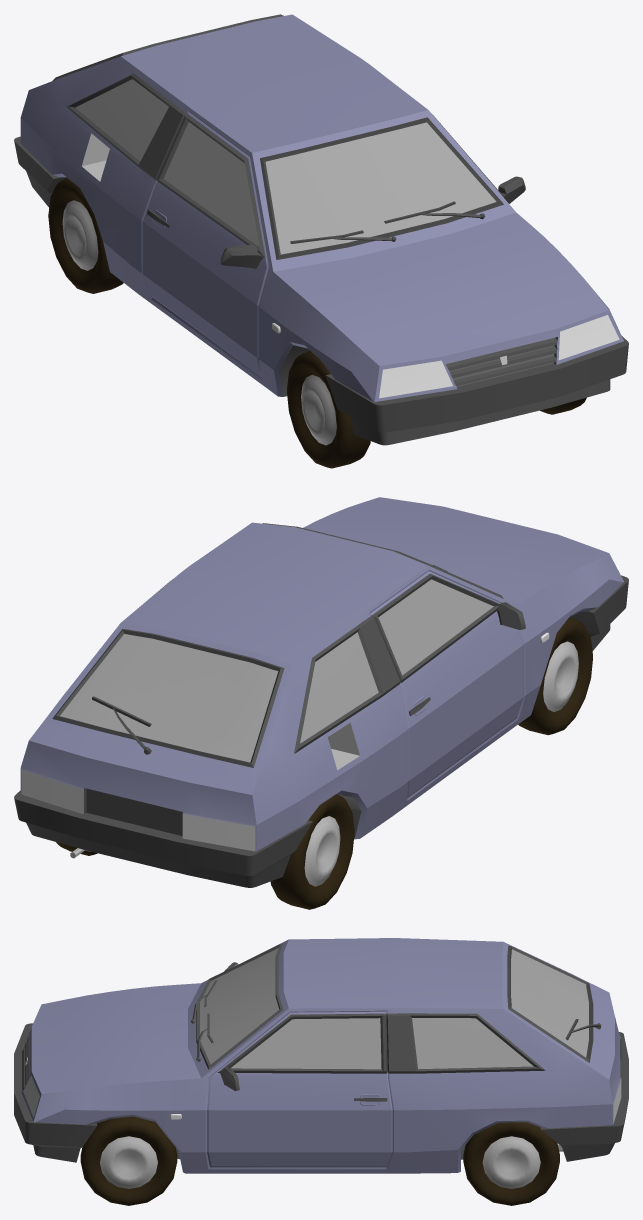
Rendered from Sputnik1.fbx.
3 renders of one model, top to bottom at view 1: azimuth 30°, elevation 25°; view 2: azimuth 150°, elevation 25°; view 3: azimuth 270°, elevation 25°, orthographic. The views are drawn at different scales.
Visible parts, largest first — view 1: Body, Wheel_FR, Wheel_RR; view 2: Body, Wheel_RR, Wheel_FR; view 3: Body, Wheel_FL, Wheel_RL.
Boxes of the visible parts, box(x1,y1,x2,y2) form: Body: box(14, 14, 628, 445); Wheel_FR: box(287, 350, 370, 468); Wheel_RR: box(48, 178, 123, 293); Body: box(14, 497, 628, 887); Wheel_RR: box(270, 794, 354, 909); Wheel_FR: box(518, 617, 592, 735); Body: box(14, 938, 628, 1173); Wheel_FL: box(80, 1116, 177, 1205); Wheel_RL: box(463, 1122, 559, 1205).
Size of the model in its own units: 187 by 138 by 408.
